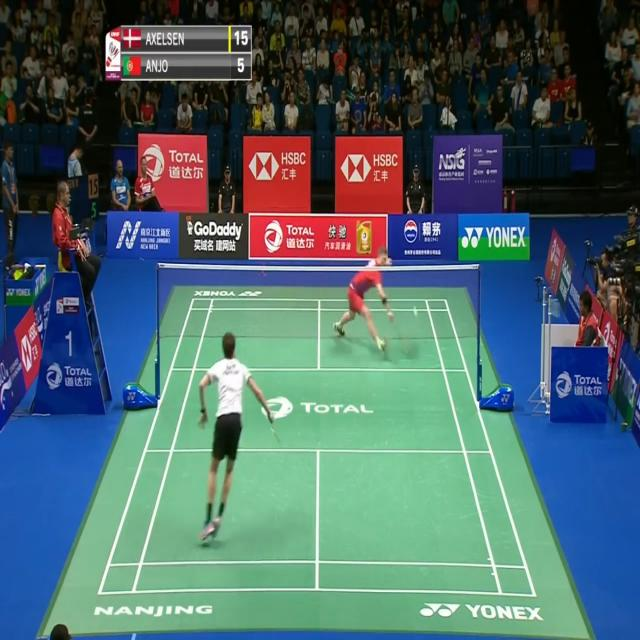Player1: (194, 321, 284, 556)
Player2: (330, 242, 398, 370)
